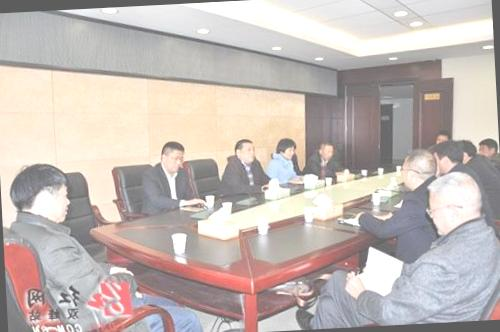no_helmet: (5, 157, 80, 227), (422, 162, 492, 236), (395, 146, 440, 192), (158, 137, 190, 175), (436, 137, 465, 176), (231, 134, 259, 166), (272, 136, 300, 164), (478, 134, 500, 165), (453, 136, 478, 162), (316, 138, 336, 164)
